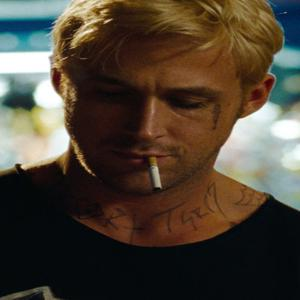cigarette: (147, 153, 167, 196)
